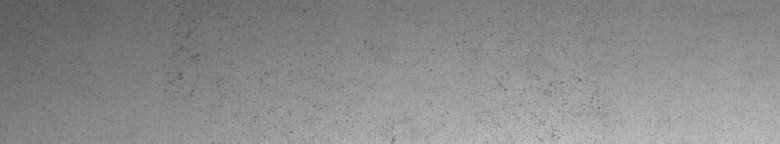ib: (498, 67, 600, 136)
